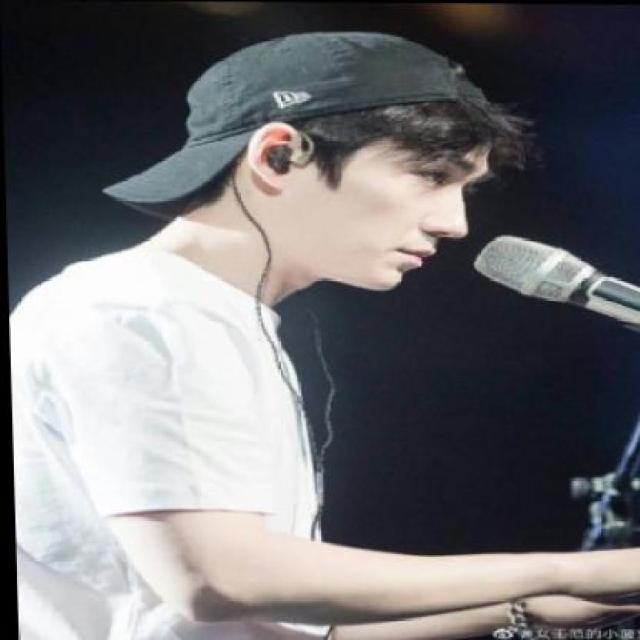hat: (91, 23, 509, 235)
